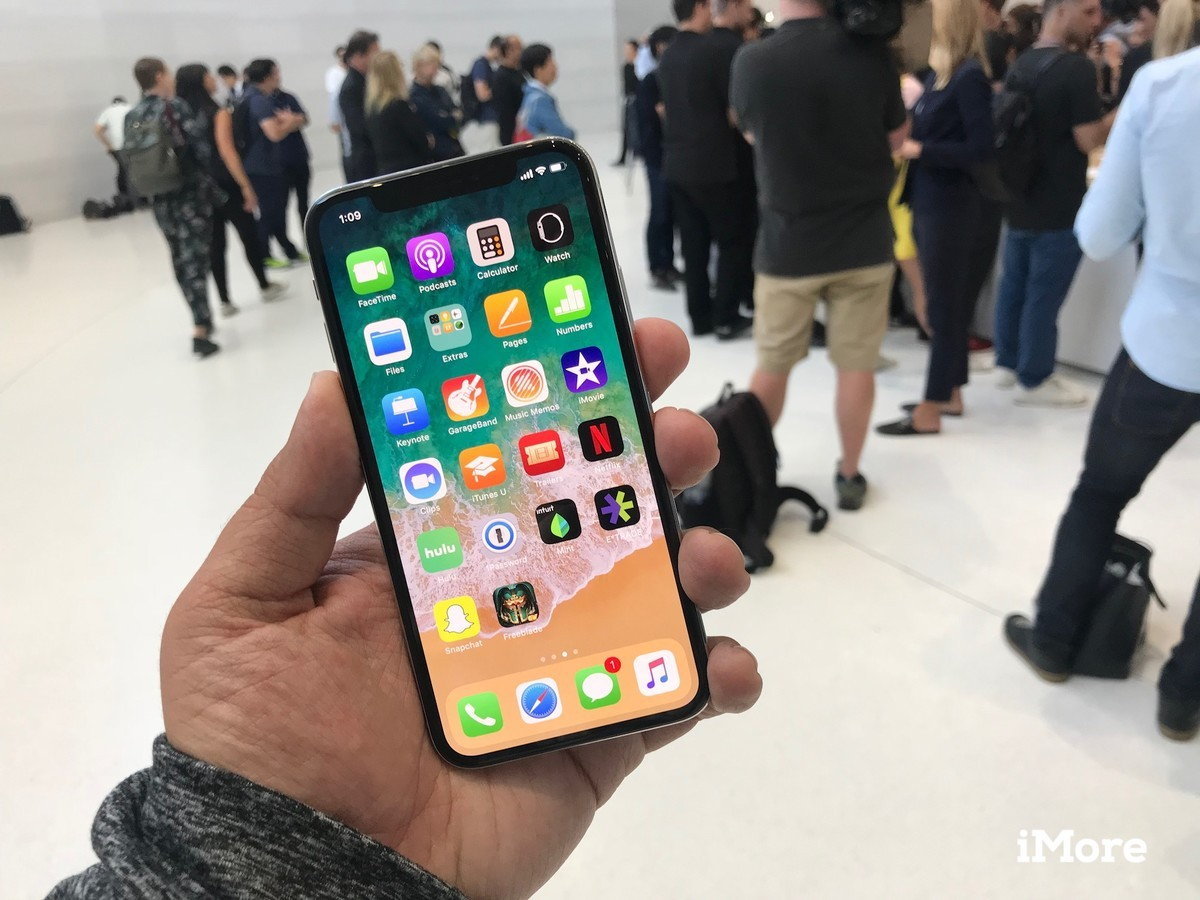smartphone: (303, 134, 714, 774)
